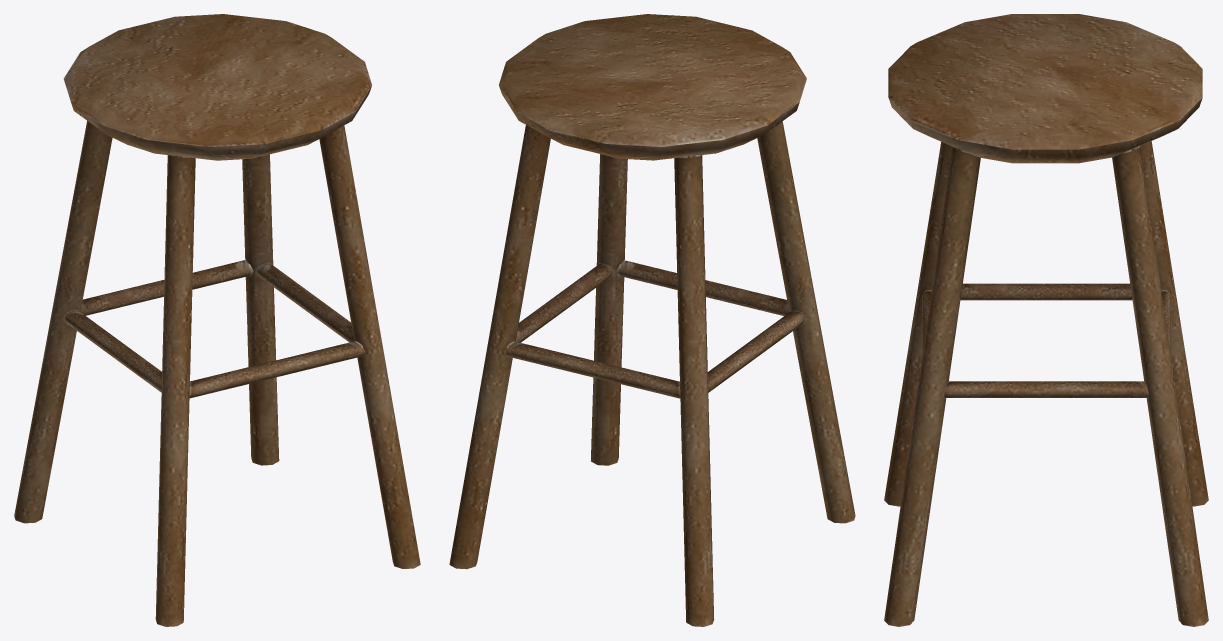
Rendered from psx_wooden_chair.glb.
3 views of the same model, side by side, from view 1: azimuth 30°, elevation 25°; view 2: azimuth 150°, elevation 25°; view 3: azimuth 270°, elevation 25° (orthographic). The views are drawn at different scales.
Visible parts, largest first — view 1: SM_Wooden_Chair; view 2: SM_Wooden_Chair; view 3: SM_Wooden_Chair.
Boxes of the visible parts, bbox=[...] form: SM_Wooden_Chair: bbox=[14, 14, 420, 626]; SM_Wooden_Chair: bbox=[449, 14, 855, 626]; SM_Wooden_Chair: bbox=[884, 14, 1208, 626].
Size of the model in its own units: 0.3634 by 0.616 by 0.3747.
Materials: 1 (1 with a texture image).
